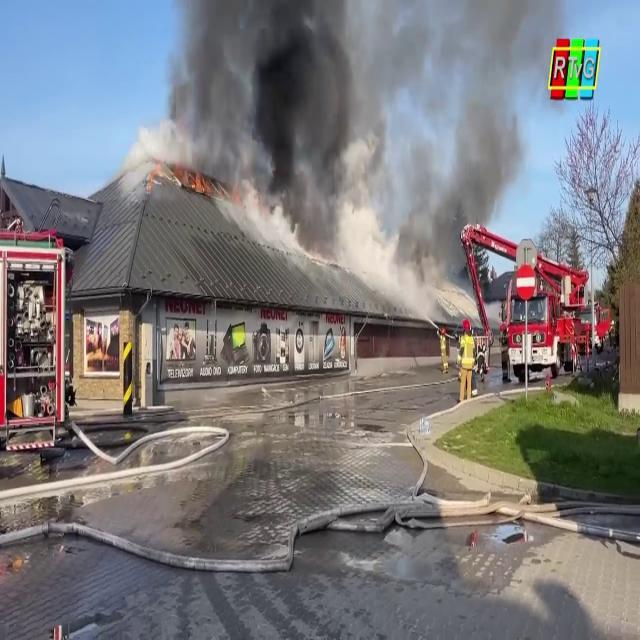Smoke: (157, 0, 371, 246), (372, 0, 538, 286)
